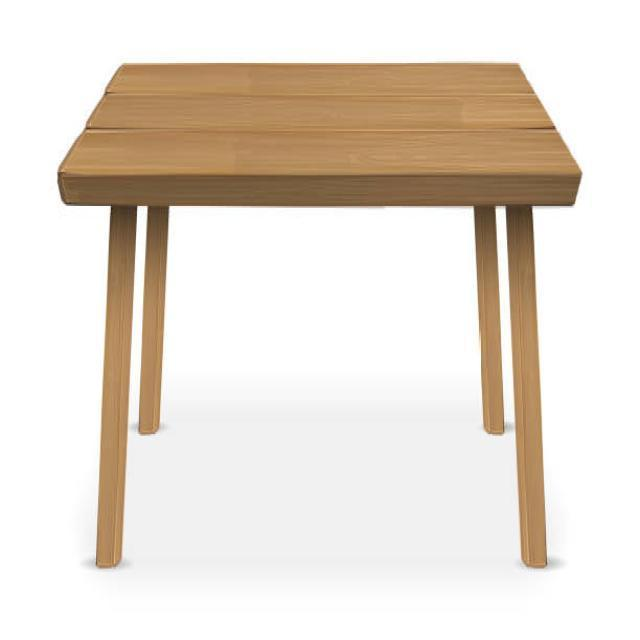table: (56, 59, 582, 570)
